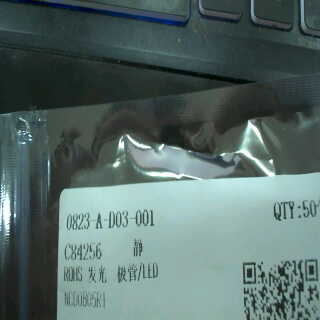LED: (87, 262, 165, 281)
